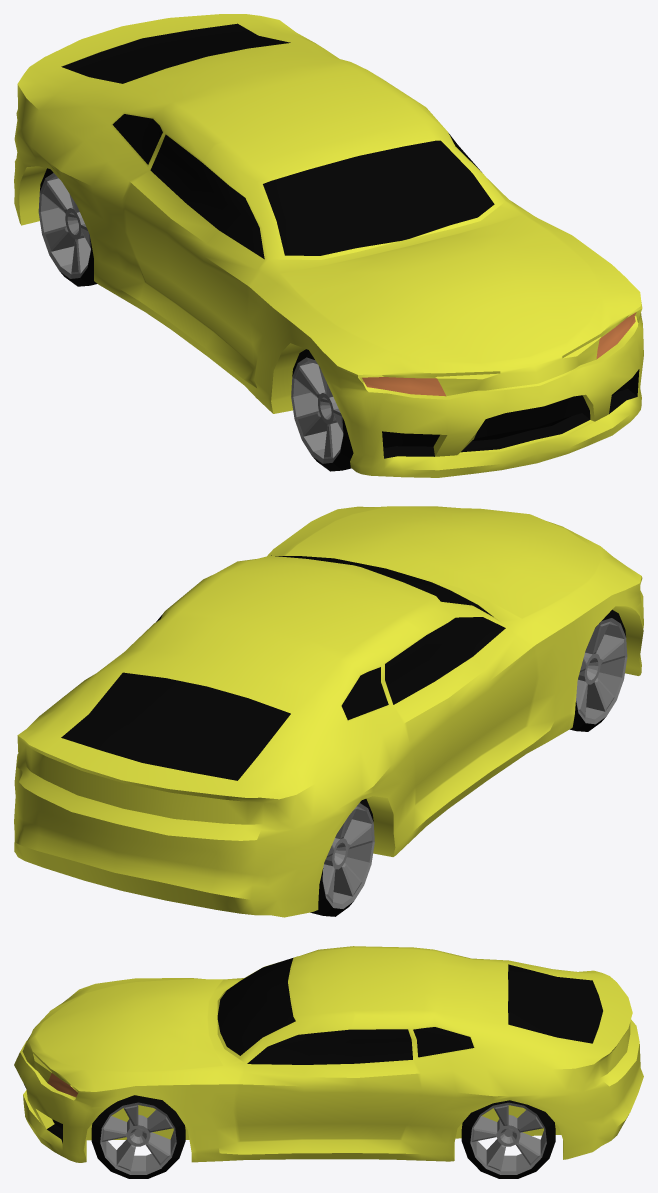
File: Camaro con ruedas.fbx
The picture shows the model from 3 angles, top to bottom: view 1: azimuth 30°, elevation 25°; view 2: azimuth 150°, elevation 25°; view 3: azimuth 270°, elevation 25°; orthographic projection. The views are drawn at different scales.
Parts seen in each view (by area): view 1: CUERPO, Rueda 2, Rueda 4; view 2: CUERPO, Rueda 2, Rueda 4; view 3: CUERPO, Rueda 1, Rueda 3.
Part boxes in pixels (left/top/right/bottom): CUERPO: left=14, top=14, right=643, bottom=477; Rueda 2: left=291, top=349, right=353, bottom=471; Rueda 4: left=38, top=168, right=97, bottom=286; CUERPO: left=14, top=506, right=643, bottom=917; Rueda 2: left=570, top=609, right=627, bottom=731; Rueda 4: left=310, top=799, right=374, bottom=916; CUERPO: left=14, top=946, right=643, bottom=1162; Rueda 1: left=91, top=1095, right=185, bottom=1178; Rueda 3: left=461, top=1100, right=555, bottom=1178.
Size of the model in its own units: 124 by 80.74 by 296.
